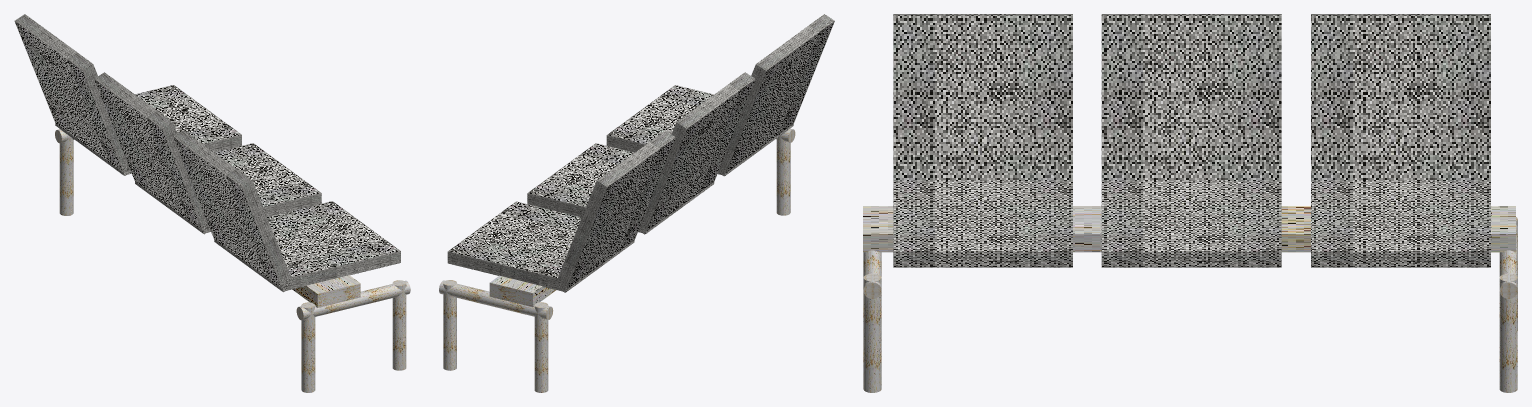
Rendered from clean_scameika.glb.
The picture shows the model from 3 angles, left to right: view 1: azimuth 30°, elevation 25°; view 2: azimuth 150°, elevation 25°; view 3: azimuth 270°, elevation 25°; orthographic projection. The views are drawn at different scales.
Visible parts, largest first — view 1: Куб; view 2: Куб; view 3: Куб.
Boxes of the visible parts, bbox=[...] form: Куб: bbox=[14, 14, 410, 392]; Куб: bbox=[439, 14, 834, 392]; Куб: bbox=[863, 14, 1517, 392].
Bounding box in the file's own units: 7.37 × 9.55 × 19.93.
2 materials, 2 textured.
